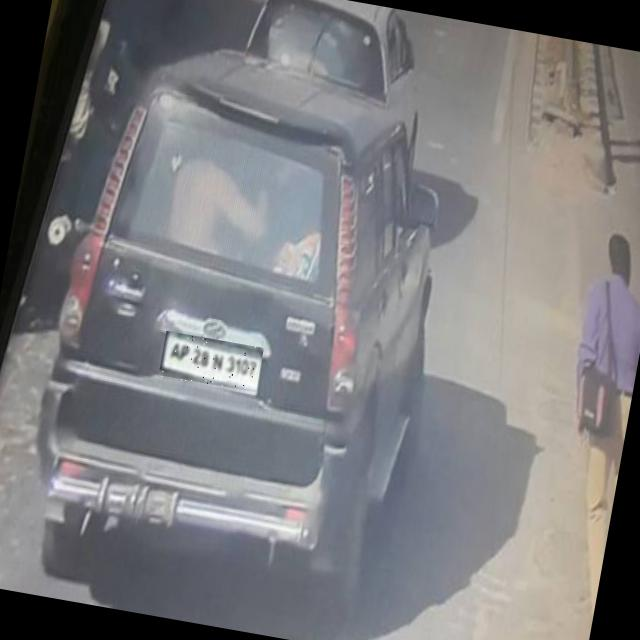Plate: (159, 332, 264, 394)
